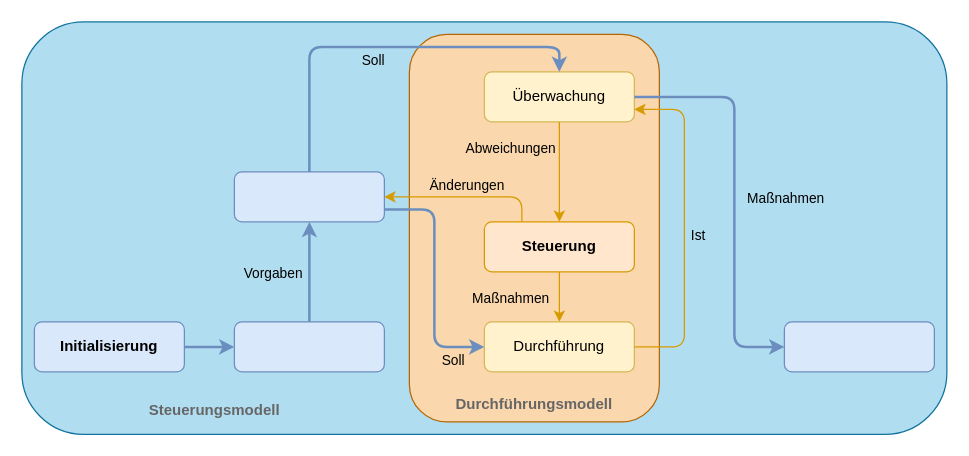
Some shapes in this 969 by 456 pixel diagram are drawn without their labels. The centre of each missing label's shape, as x and y in pixels:
Abschluss: point 858,346
Definition: point 308,346
Planung: point 308,196
